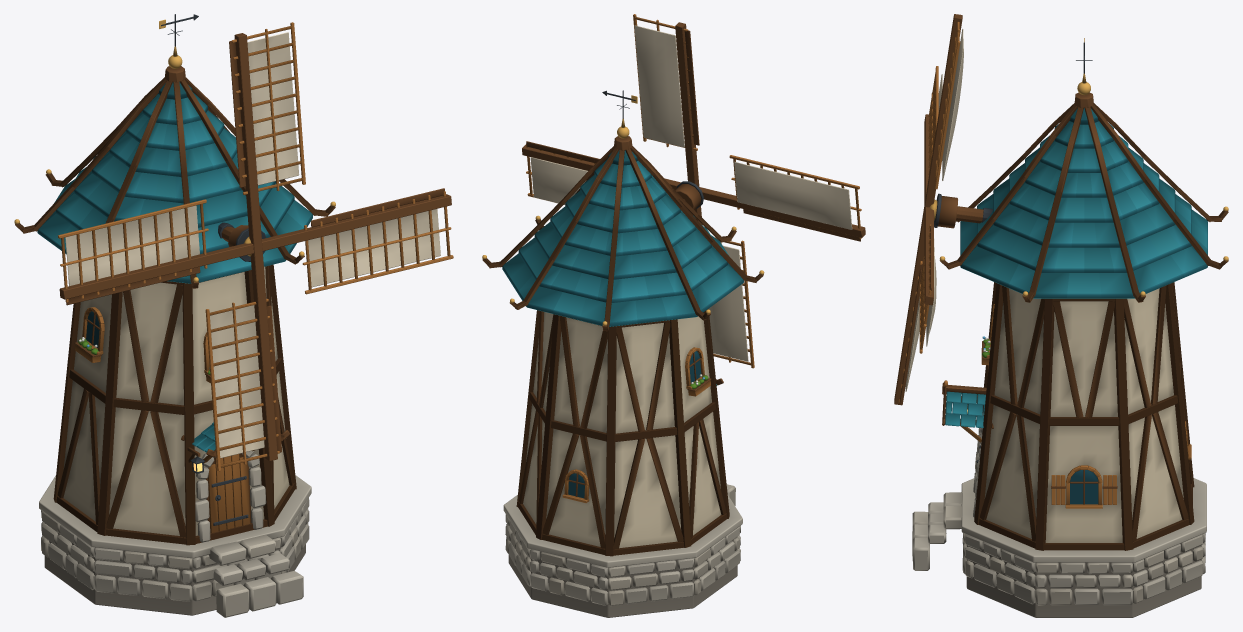
File: decor.glb
3 renders of one model, left to right at view 1: azimuth 30°, elevation 25°; view 2: azimuth 150°, elevation 25°; view 3: azimuth 270°, elevation 25°, orthographic. The views are drawn at different scales.
Parts seen in each view (by area): view 1: Windmill, Windmill_Sails; view 2: Windmill, Windmill_Sails; view 3: Windmill, Windmill_Sails.
Boxes of the visible parts, <box> form: Windmill: <box>14,14,335,617</box>; Windmill_Sails: <box>58,22,453,471</box>; Windmill: <box>482,90,764,617</box>; Windmill_Sails: <box>522,14,865,368</box>; Windmill: <box>912,38,1228,617</box>; Windmill_Sails: <box>894,14,963,405</box>.
Bounding box in the file's own units: 10 × 14.16 × 7.76.
